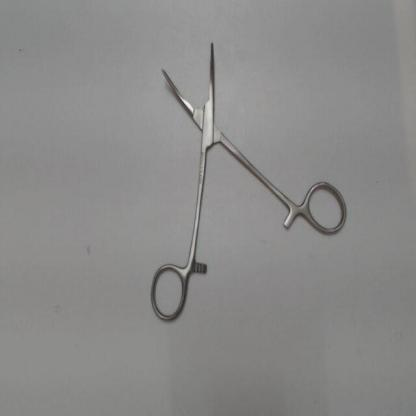Crile Artery Forceps: (146, 32, 350, 327)
